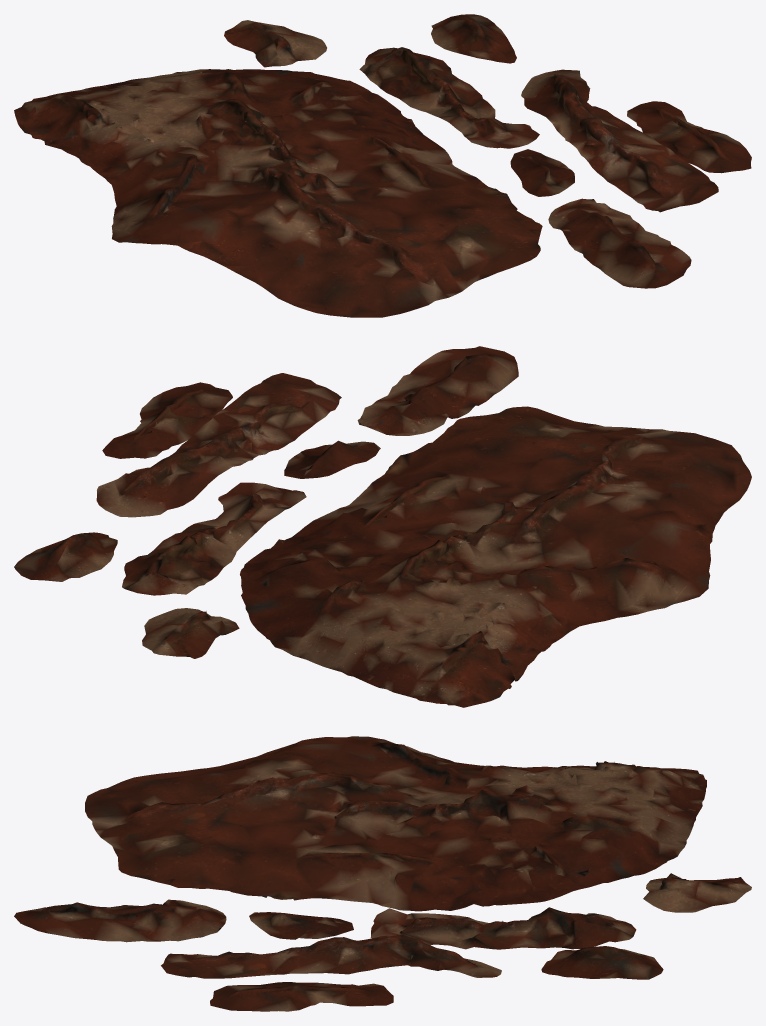
The model's file is root_cluster_02_lod.glb.
3 views of the same model, one above another, from view 1: azimuth 30°, elevation 25°; view 2: azimuth 150°, elevation 25°; view 3: azimuth 270°, elevation 25° (orthographic). The views are drawn at different scales.
Visible parts, largest first — view 1: root_cluster_02_a, root_cluster_02_f, root_cluster_02_d, root_cluster_02_b, root_cluster_02_g, root_cluster_02_e, root_cluster_02_h, root_cluster_02_c; view 2: root_cluster_02_a, root_cluster_02_f, root_cluster_02_d, root_cluster_02_b, root_cluster_02_g, root_cluster_02_h, root_cluster_02_e, root_cluster_02_c; view 3: root_cluster_02_a, root_cluster_02_f, root_cluster_02_d, root_cluster_02_b, root_cluster_02_g, root_cluster_02_h, root_cluster_02_e, root_cluster_02_c.
Boxes of the visible parts, bbox=[...] form: root_cluster_02_a: bbox=[14, 69, 542, 317]; root_cluster_02_f: bbox=[521, 69, 718, 212]; root_cluster_02_d: bbox=[359, 47, 539, 148]; root_cluster_02_b: bbox=[548, 198, 691, 288]; root_cluster_02_g: bbox=[627, 101, 751, 173]; root_cluster_02_e: bbox=[224, 20, 326, 67]; root_cluster_02_h: bbox=[431, 14, 516, 63]; root_cluster_02_c: bbox=[510, 149, 574, 196]; root_cluster_02_a: bbox=[240, 406, 751, 707]; root_cluster_02_f: bbox=[96, 373, 341, 517]; root_cluster_02_d: bbox=[122, 482, 306, 595]; root_cluster_02_b: bbox=[357, 346, 518, 435]; root_cluster_02_g: bbox=[102, 382, 232, 458]; root_cluster_02_h: bbox=[14, 532, 117, 581]; root_cluster_02_e: bbox=[142, 608, 239, 658]; root_cluster_02_c: bbox=[284, 440, 380, 478]; root_cluster_02_a: bbox=[85, 736, 706, 911]; root_cluster_02_f: bbox=[161, 935, 501, 978]; root_cluster_02_d: bbox=[370, 907, 636, 949]; root_cluster_02_b: bbox=[14, 899, 226, 942]; root_cluster_02_g: bbox=[210, 982, 393, 1011]; root_cluster_02_h: bbox=[541, 946, 663, 979]; root_cluster_02_e: bbox=[643, 873, 751, 912]; root_cluster_02_c: bbox=[249, 912, 353, 939].
Size of the model in its own units: 2.38 by 0.1965 by 2.7.
1 material, 1 textured.
